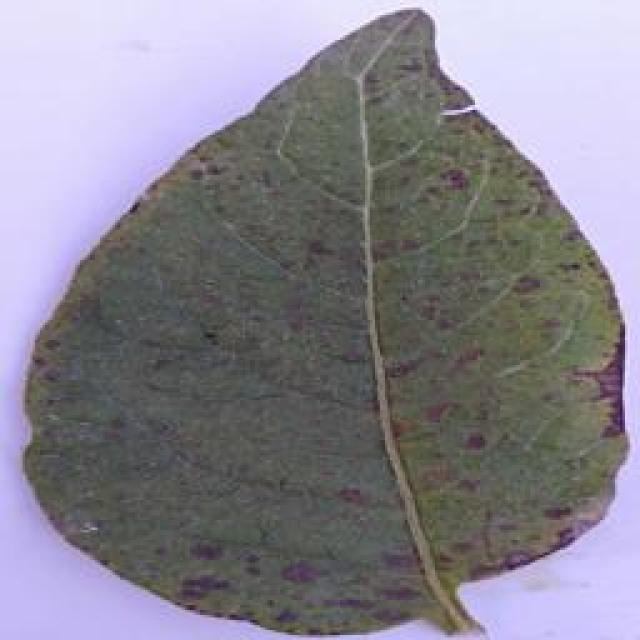Potato_Early_Blight: (26, 8, 640, 640)
